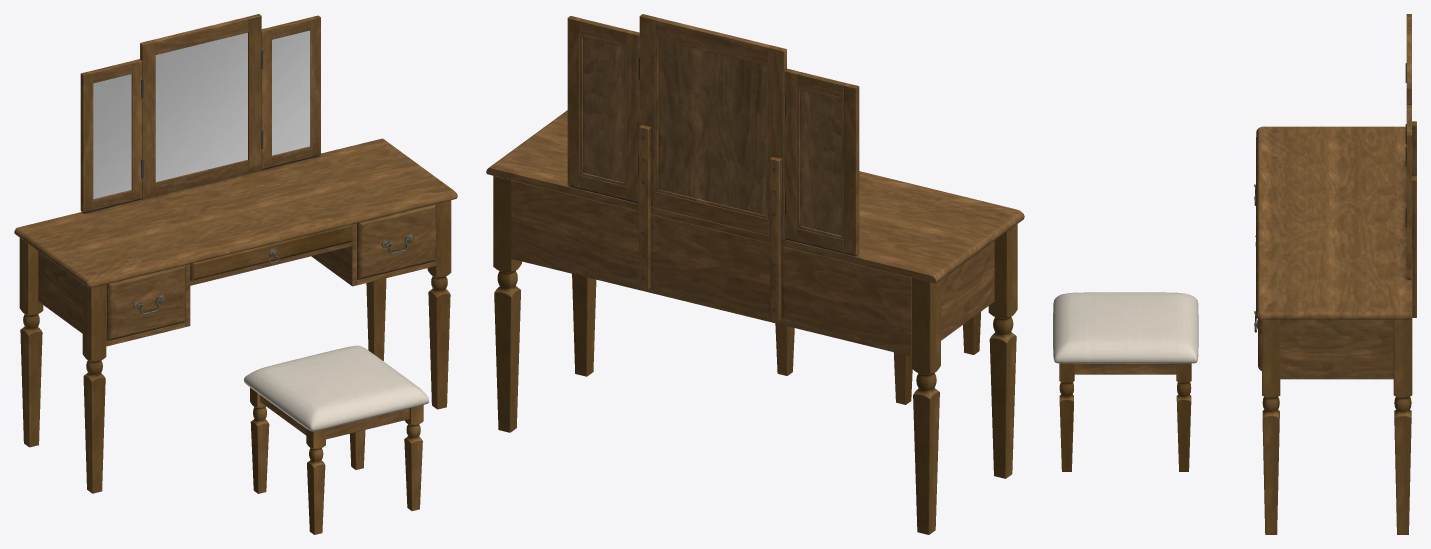
The model's file is abo-B07BL1NYC4.glb.
3 renders of one model, left to right at view 1: azimuth 30°, elevation 25°; view 2: azimuth 150°, elevation 25°; view 3: azimuth 270°, elevation 25°, orthographic. The views are drawn at different scales.
Bounding box in the file's own units: 1.37 × 1.31 × 1.11.
Materials: 1 (1 with a texture image).
